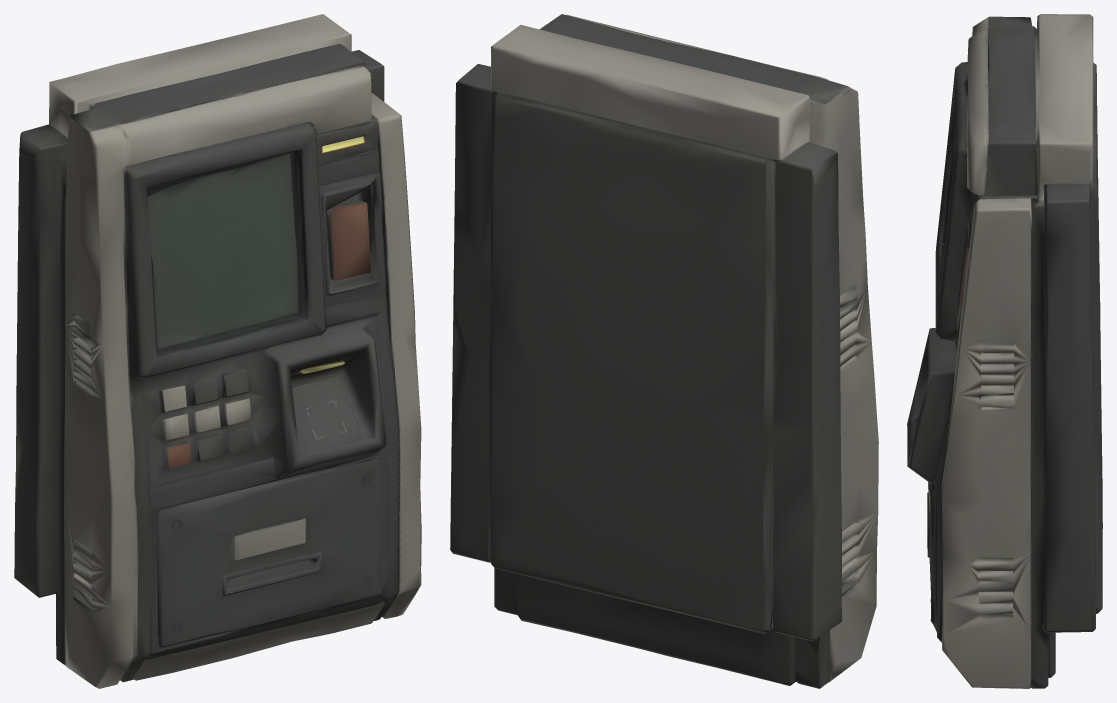
The model's file is ENV_ALL_108_v001_RAW.glb.glb.
3 views of the same model, side by side, from view 1: azimuth 30°, elevation 25°; view 2: azimuth 150°, elevation 25°; view 3: azimuth 270°, elevation 25° (orthographic). The views are drawn at different scales.
Visible parts, largest first — view 1: tripo_node_806bd52c-6c8e-4b40-b976-e330c3e8ae9a; view 2: tripo_node_806bd52c-6c8e-4b40-b976-e330c3e8ae9a; view 3: tripo_node_806bd52c-6c8e-4b40-b976-e330c3e8ae9a.
Boxes of the visible parts, left/top/right/bottom form: tripo_node_806bd52c-6c8e-4b40-b976-e330c3e8ae9a: left=14, top=14, right=421, bottom=688; tripo_node_806bd52c-6c8e-4b40-b976-e330c3e8ae9a: left=450, top=14, right=878, bottom=688; tripo_node_806bd52c-6c8e-4b40-b976-e330c3e8ae9a: left=907, top=14, right=1102, bottom=688.
Bounding box in the file's own units: 0.6406 × 0.9799 × 0.3218.
Materials: 1 (1 with a texture image).
